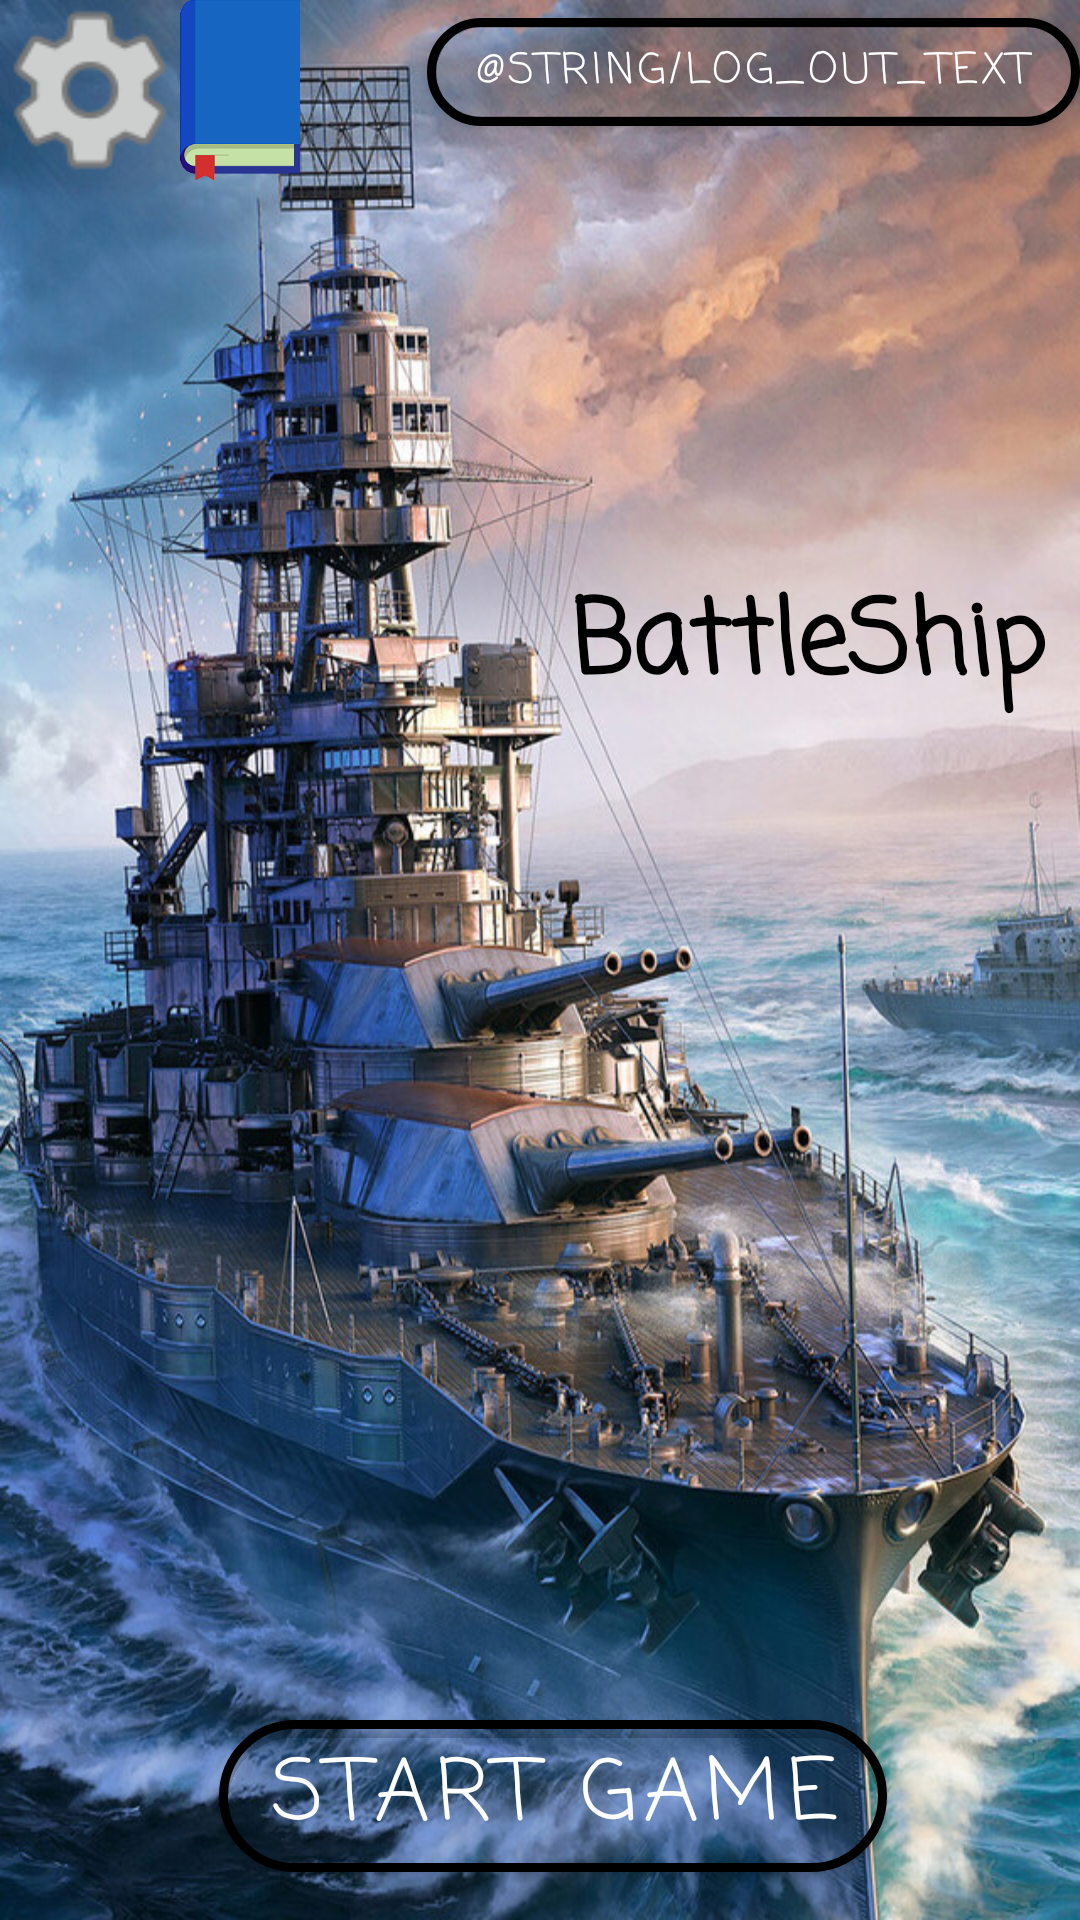

Point at icon controls on the screen. Image size 1080px x 1920px, points as (x=x, y=y).
settings: (x=90, y=90)
